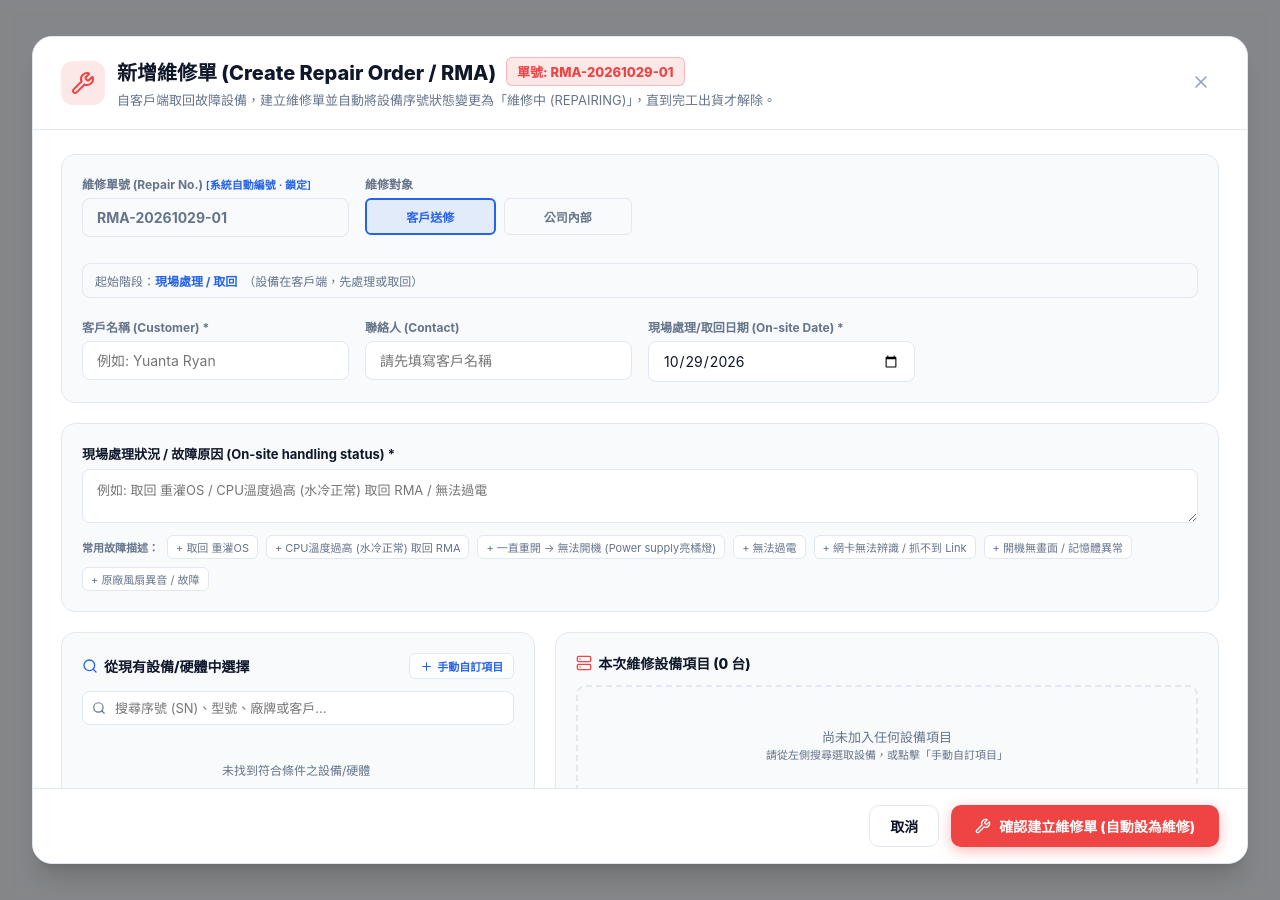
新增維修單：客戶與聯絡人 › 選了聯絡人會一併帶出電話
Type "元大Yuanta" into the field with placeholder "例如: Yuanta Ryan" at (216, 360), box [82,341,349,380]
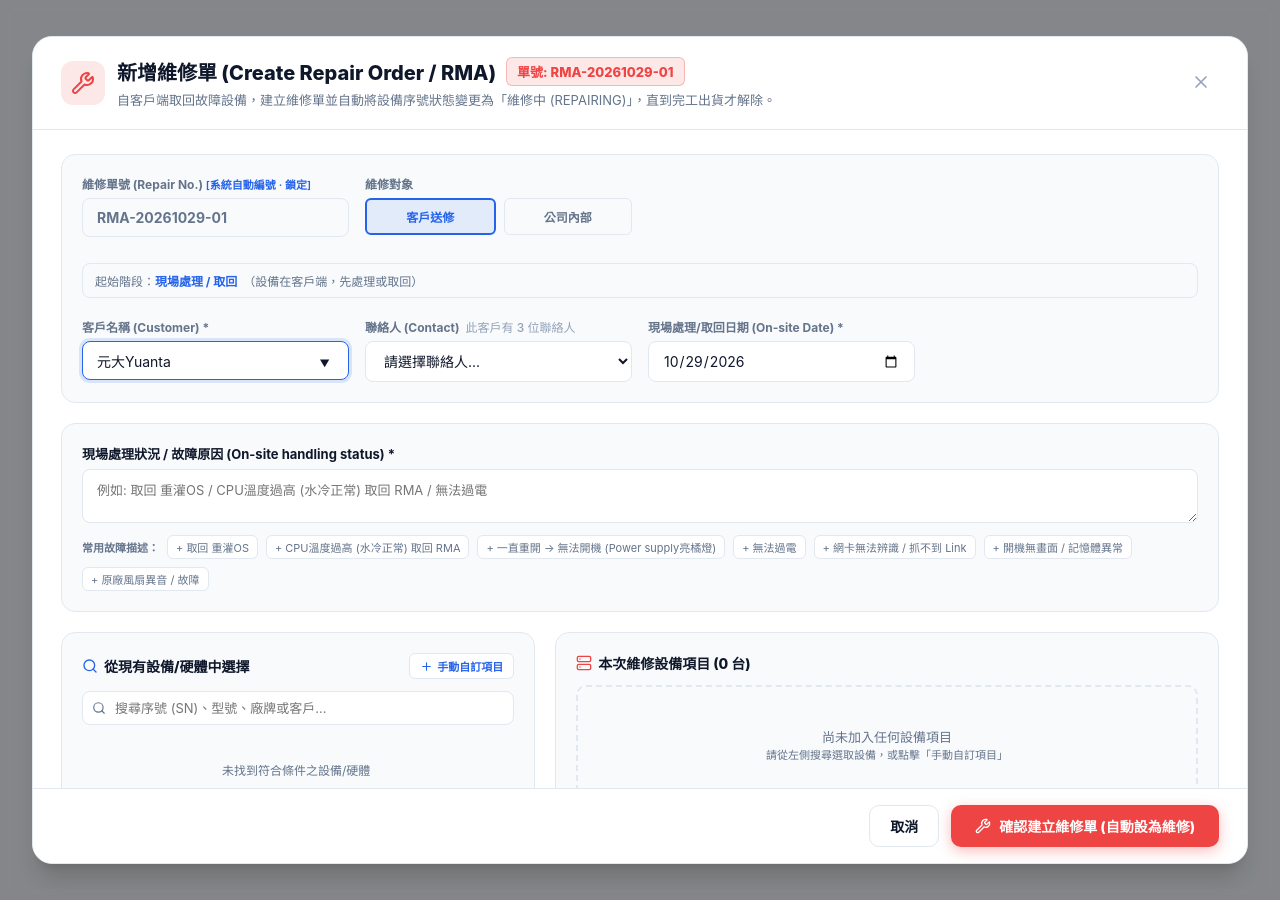
Select "Ryan（02-2222-2222）" in the dropdown labelled "聯絡人 (Contact)此客戶有 3 位聯絡人" at (498, 362), box [365,341,632,382]
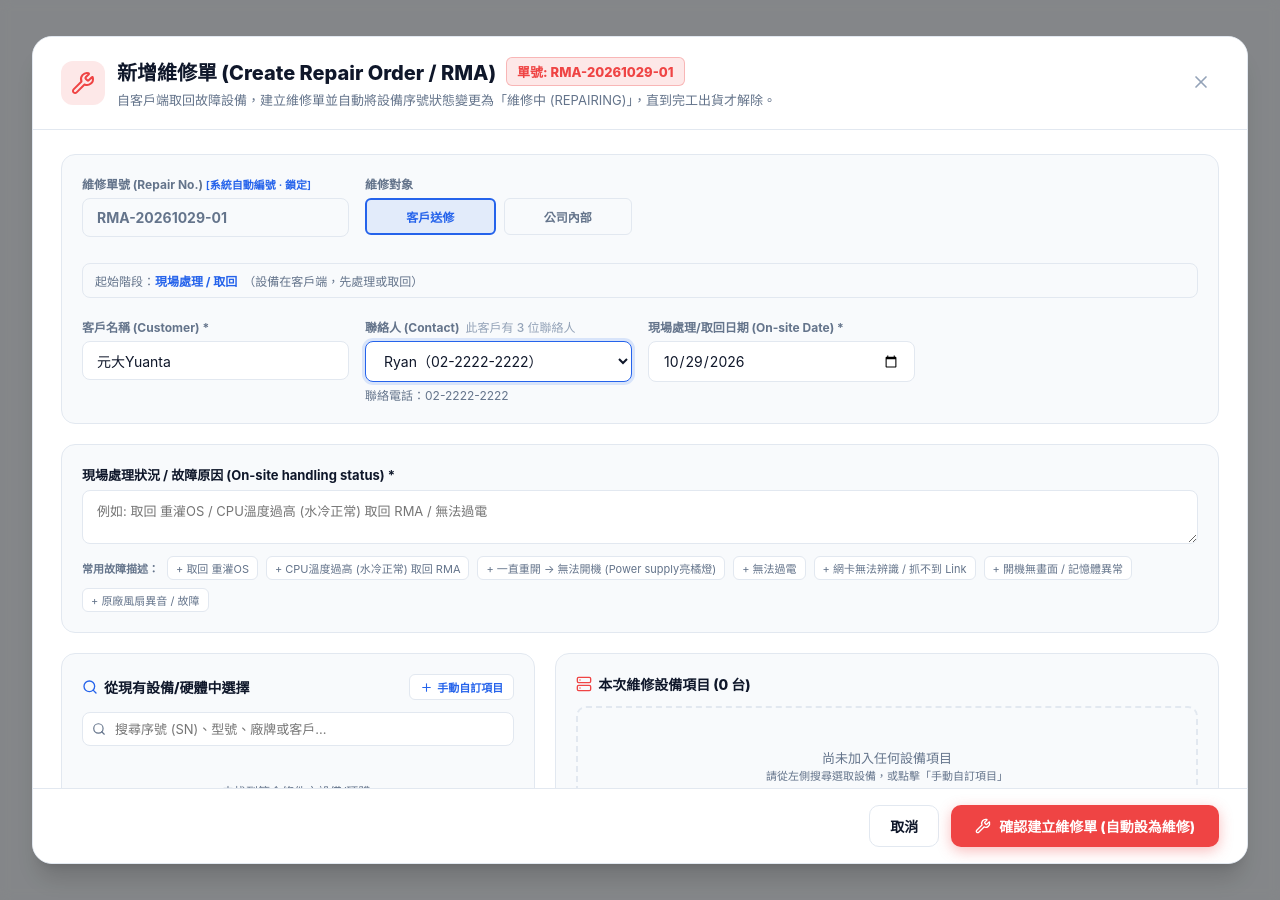
Result: the text "聯絡電話：02-2222-2222" is shown at [365,388,509,403]
